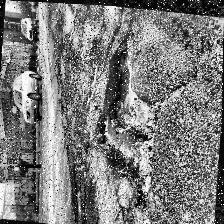pothole: (92, 43, 162, 206)
